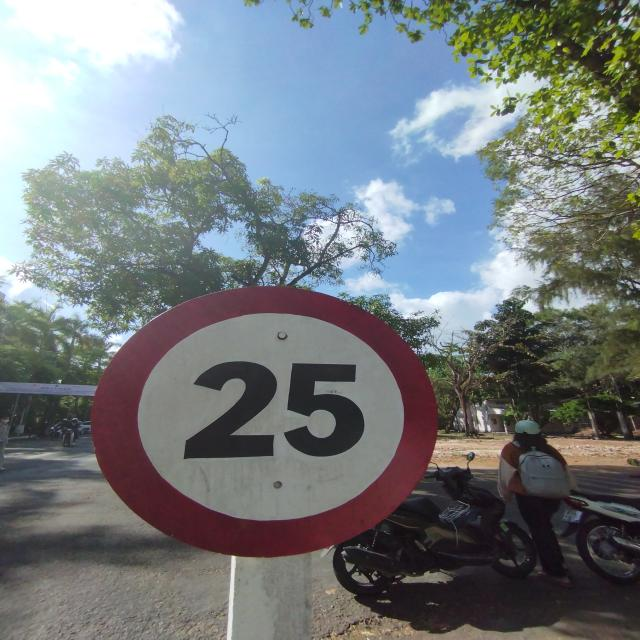Tre_Em: (90, 284, 441, 559)
